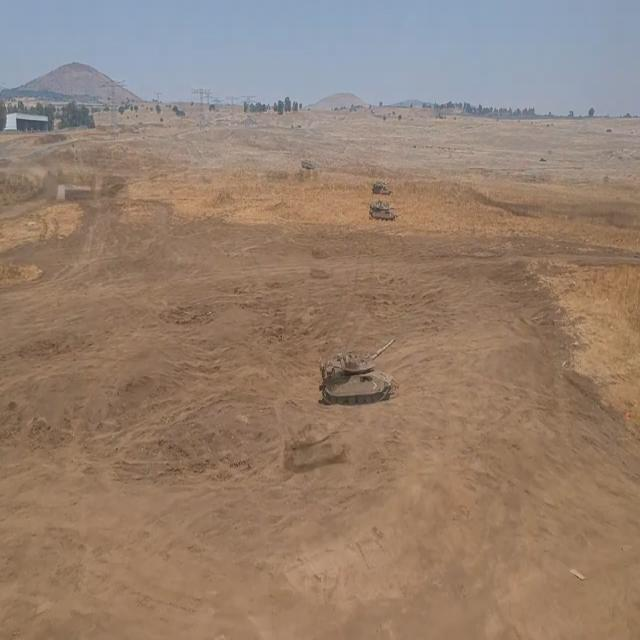tank: (319, 333, 405, 414), (364, 197, 396, 223), (300, 153, 315, 173), (371, 182, 393, 192)
